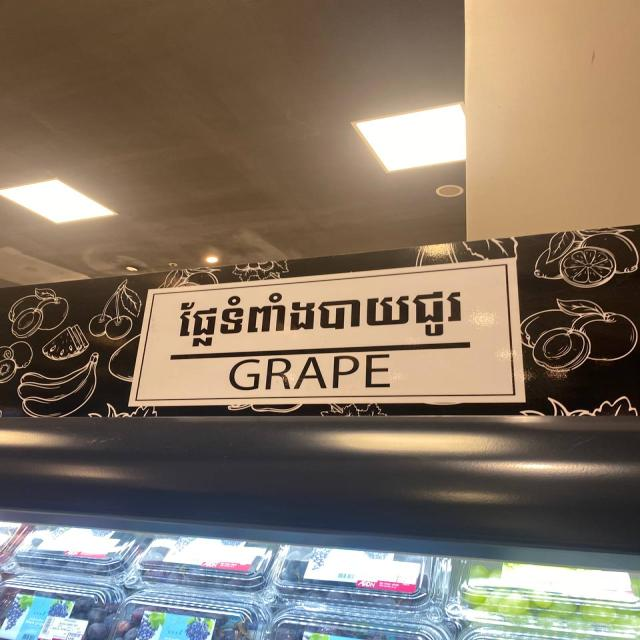Yolov11kh: (171, 277, 473, 354)
